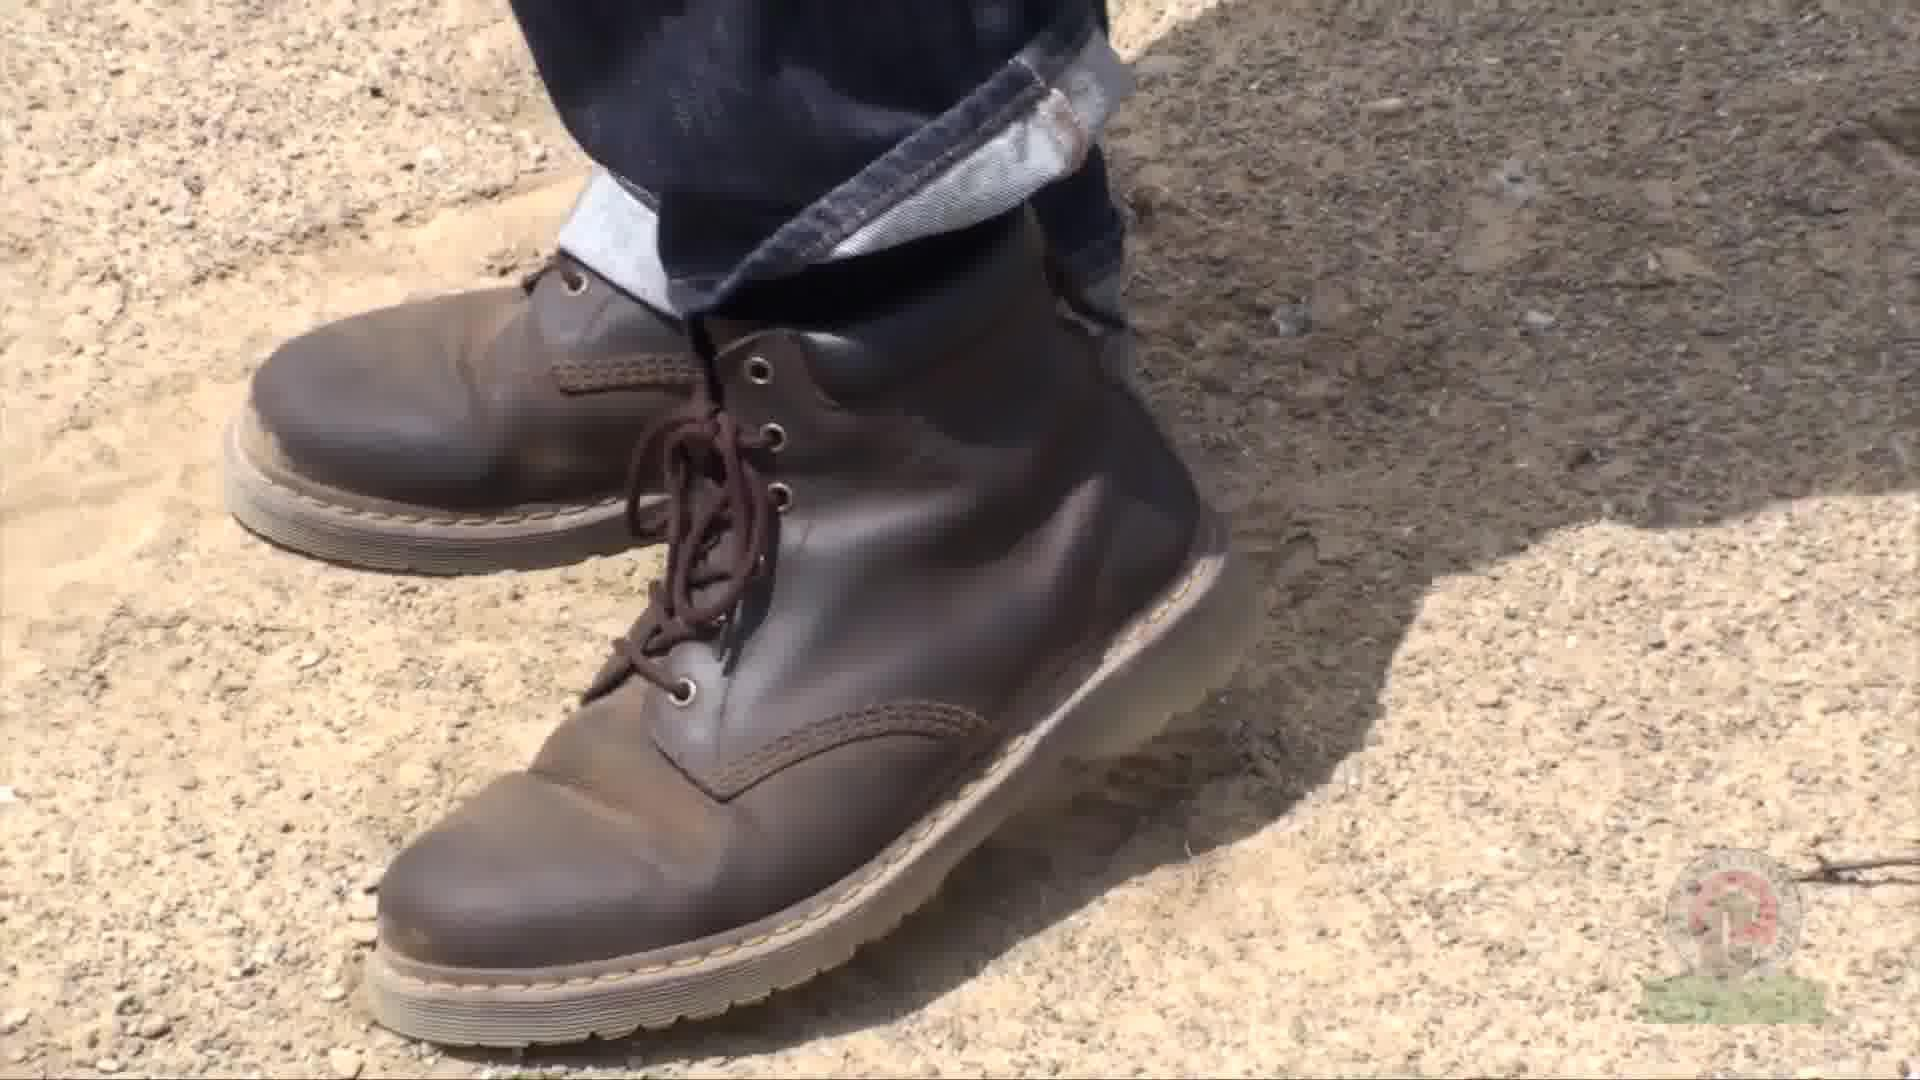safety boot: (92, 76, 1389, 1077)
